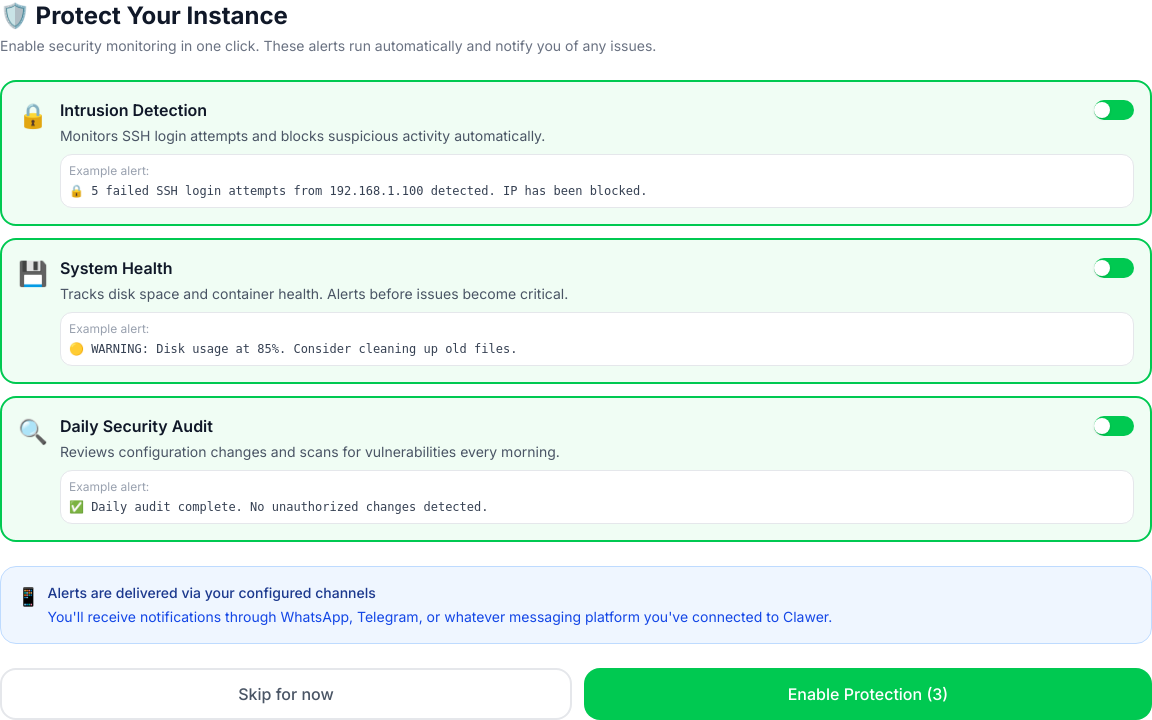
SecuritySetup › should disable enable button if all alerts are toggled off
The width and height of the screenshot is (1152, 720).
Click the button that starts with "Intrusion Detection": (576, 153) [0, 80, 1151, 226]
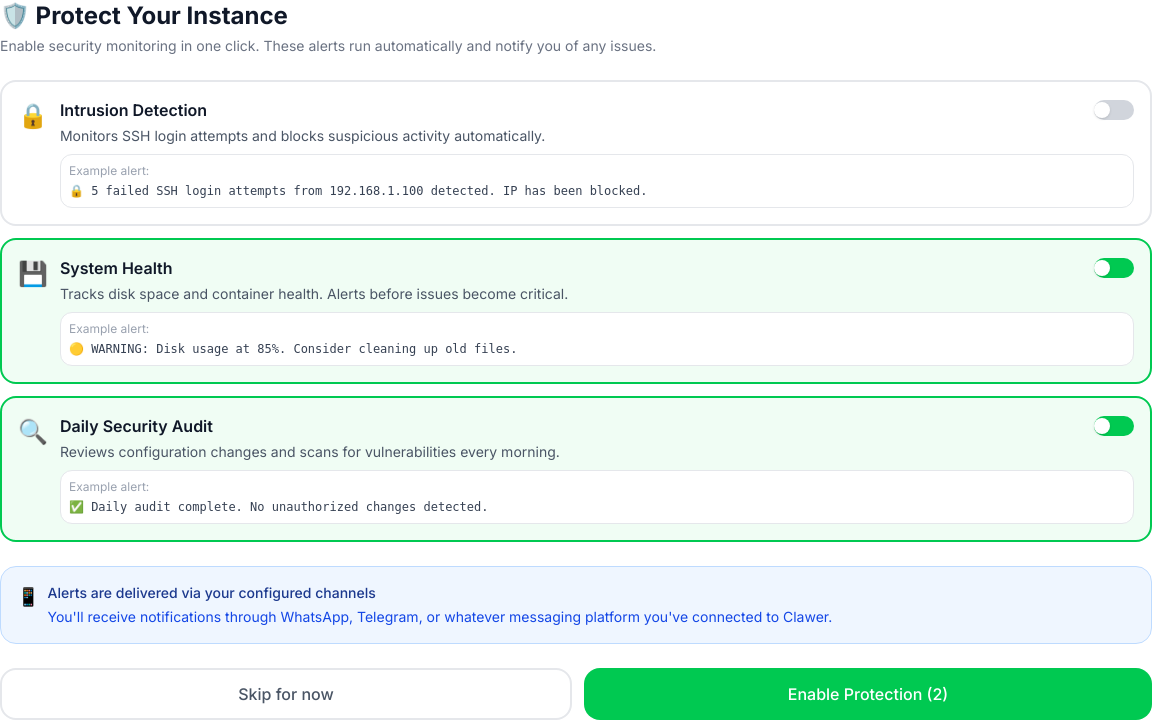
Click the button that starts with "System Health": (576, 311) [0, 238, 1151, 384]
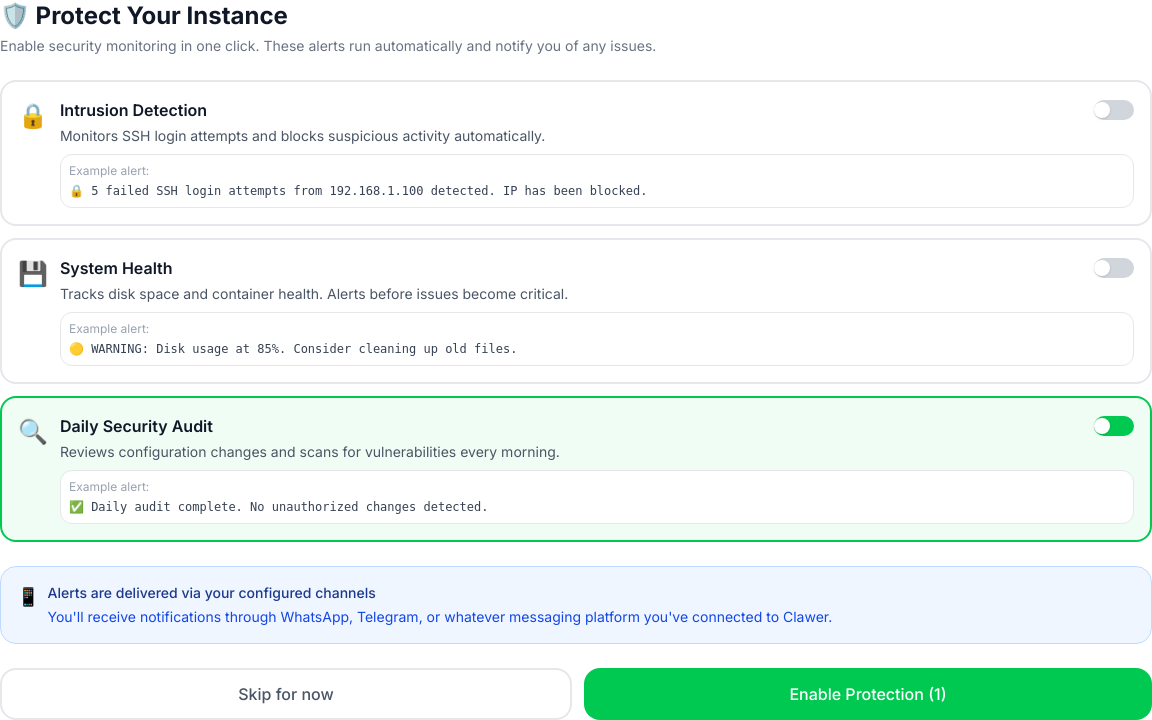
Click the button that starts with "Daily Security Audit": (576, 469) [0, 396, 1151, 542]
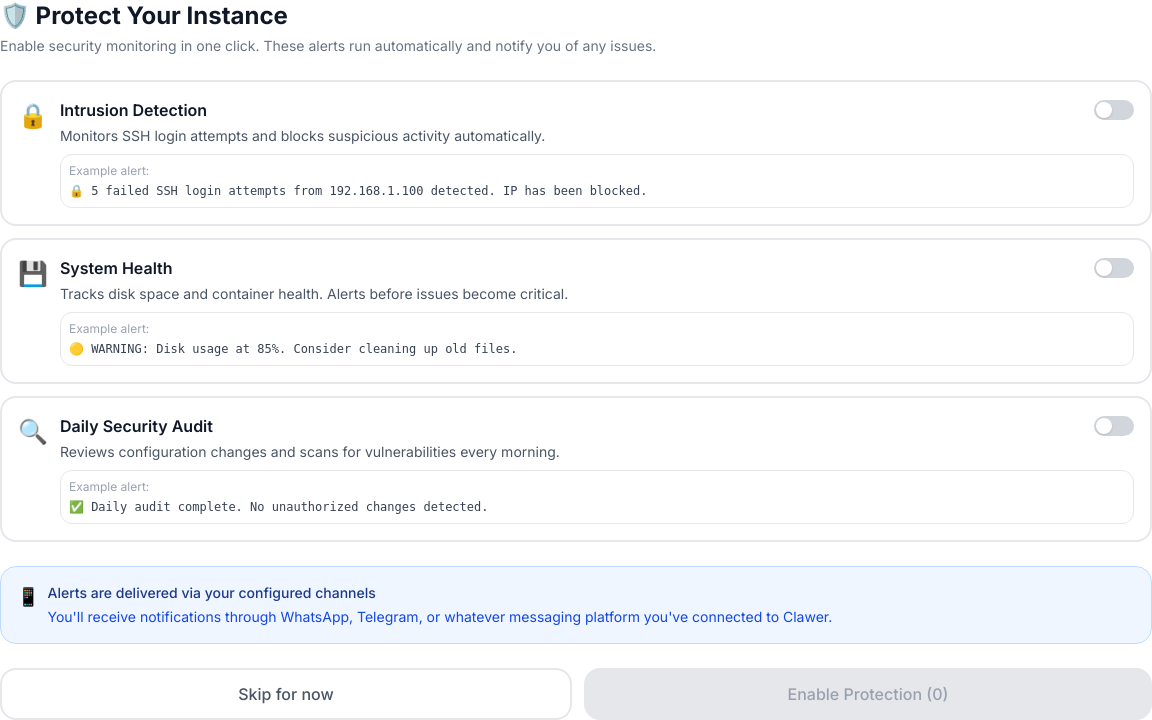
Check: the button "Enable Protection (0)" is disabled, box [584, 668, 1151, 719]
